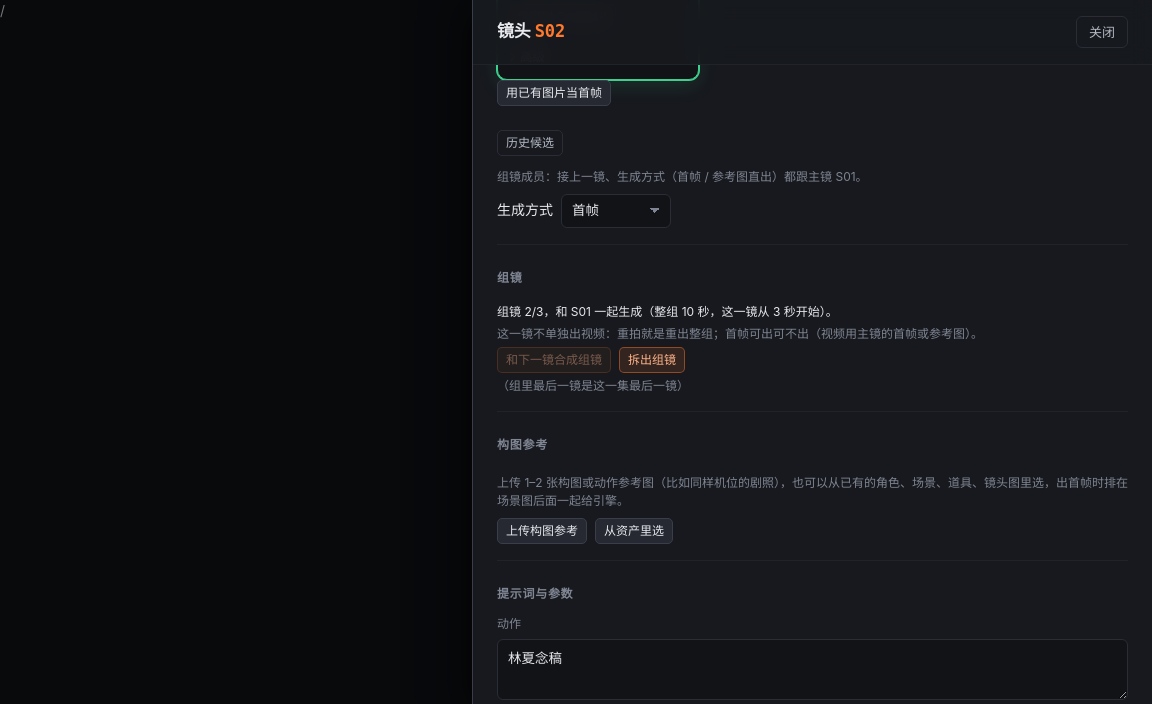
Test: 组镜：抽屉 › 成员：说明和谁一起生成，能拆出组镜；不显示接上一镜
The image size is (1152, 704).
(page scrolled)
Expected: the text with test id "group-info" shows "组镜 2/3，和 S01 一起生成", [497,304,642,318]
Expected: the text with test id "group-info" shows "这一镜从 3 秒开始", [710,304,820,318]
// 组已经满 10 秒、后面没有镜头：不能再合
What coordinates should you click on to do the following:
click the button "拆出组镜"
I would click on:
 (652, 360)
Its box is [619,346,685,372].
(page scrolled)
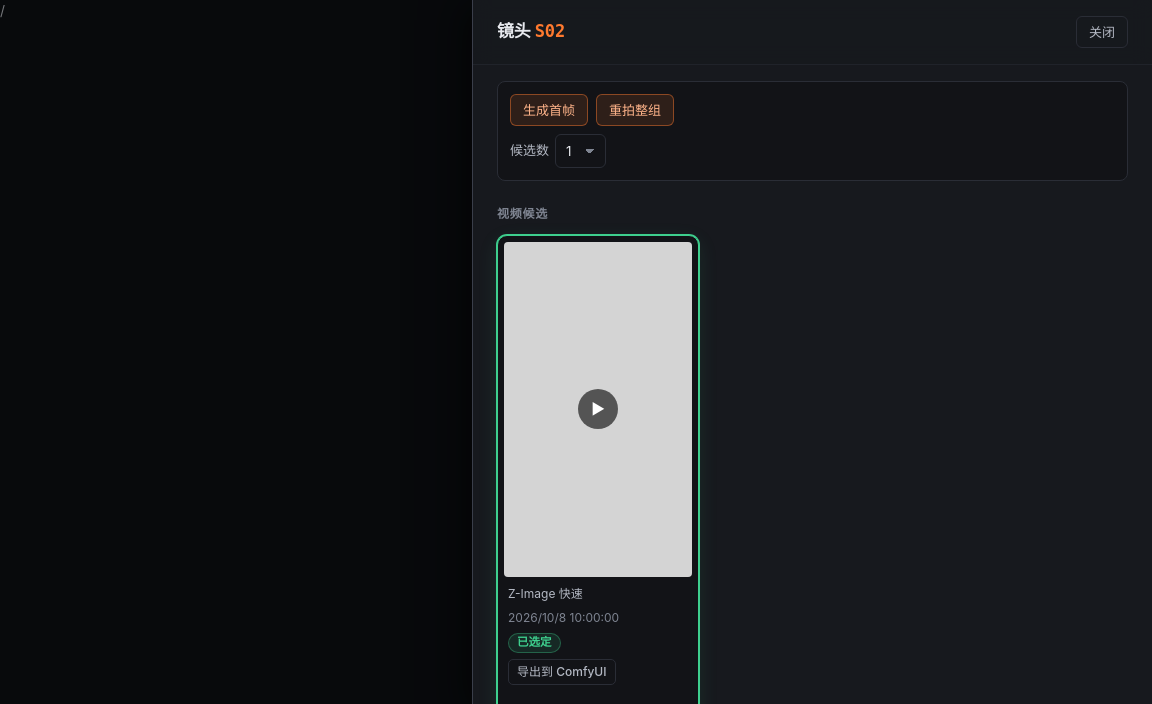
Expected: the button "重拍整组" is shown, [596,94,674,126]
